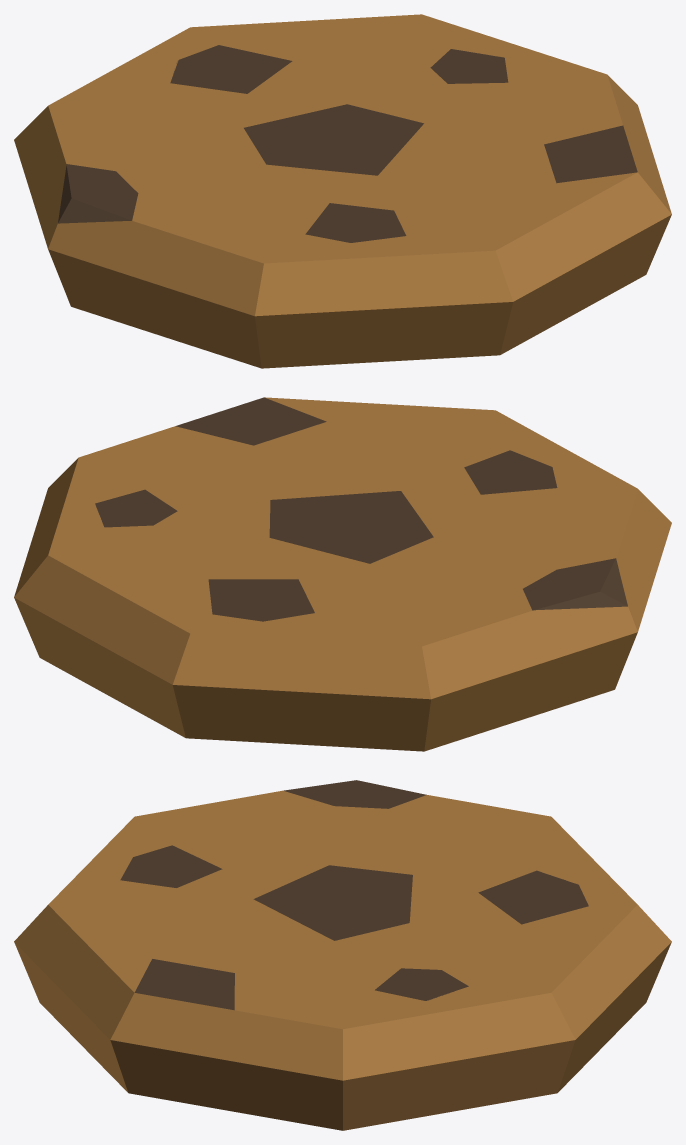
File: food_cookie.fbx
The picture shows the model from 3 angles, top to bottom: view 1: azimuth 30°, elevation 25°; view 2: azimuth 150°, elevation 25°; view 3: azimuth 270°, elevation 25°; orthographic projection. The views are drawn at different scales.
Parts seen in each view (by area): view 1: food_cookie; view 2: food_cookie; view 3: food_cookie.
Part boxes in pixels (bbox=[...]): food_cookie: bbox=[14, 14, 671, 368]; food_cookie: bbox=[14, 397, 671, 751]; food_cookie: bbox=[14, 780, 671, 1130].
Size of the model in its own units: 200 by 32.86 by 200.
